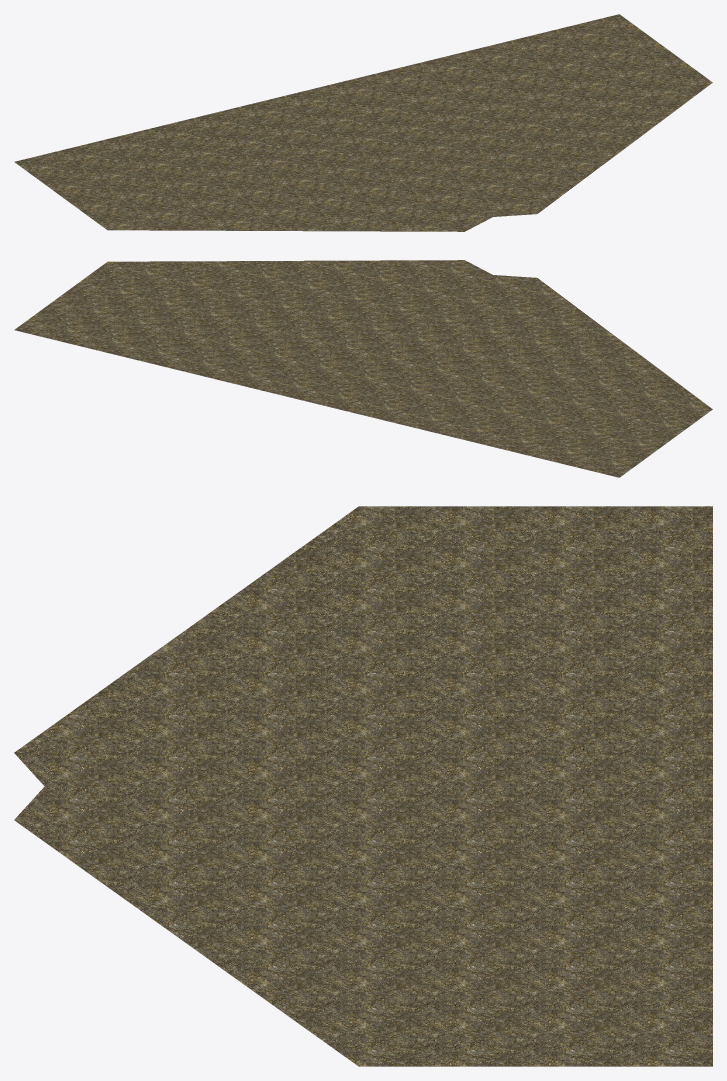
The model's file is Ground02_Terrian_LV001.FBX.
The picture shows the model from 3 angles, top to bottom: view 1: azimuth 30°, elevation 25°; view 2: azimuth 150°, elevation 25°; view 3: azimuth 270°, elevation 25°; orthographic projection. The views are drawn at different scales.
Parts seen in each view (by area): view 1: Ground02_Terrian_LV001; view 2: Ground02_Terrian_LV001; view 3: Ground02_Terrian_LV001.
Part boxes in pixels (x1,y1,x2,y2): Ground02_Terrian_LV001: [14, 14, 712, 231]; Ground02_Terrian_LV001: [14, 260, 712, 477]; Ground02_Terrian_LV001: [14, 506, 712, 1066].
Size of the model in its own units: 12445 by 0.000287 by 6564.
1 material, 1 textured.
